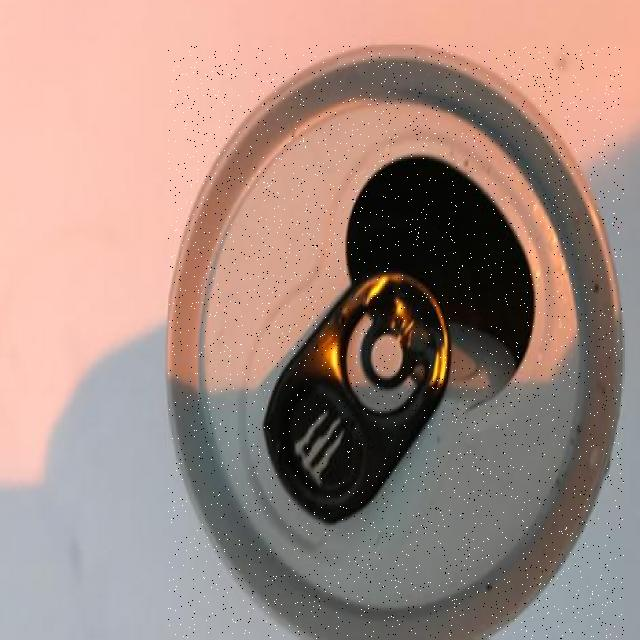metal: (169, 46, 624, 639)
